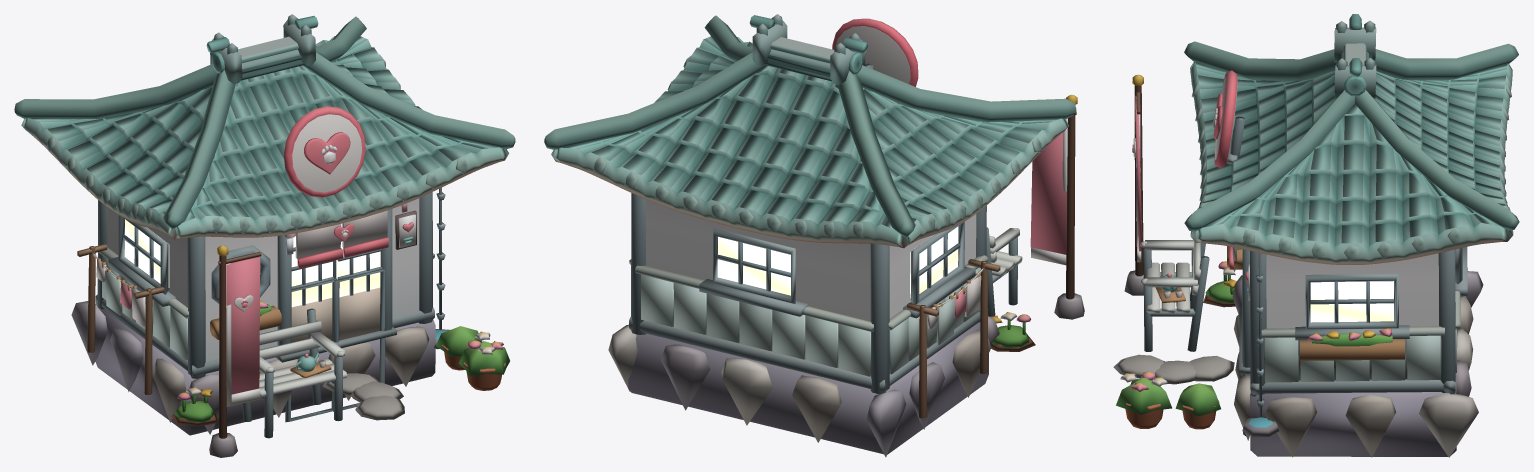
File: clinic.glb
3 views of the same model, side by side, from view 1: azimuth 30°, elevation 25°; view 2: azimuth 150°, elevation 25°; view 3: azimuth 270°, elevation 25° (orthographic). The views are drawn at different scales.
Visible parts, largest first — view 1: clinic, window_glow; view 2: clinic, window_glow; view 3: clinic, window_glow.
Boxes of the visible parts, x1,y1,x2,y2 form: clinic: [14, 14, 515, 457]; window_glow: [124, 219, 380, 307]; clinic: [544, 14, 1084, 457]; window_glow: [717, 226, 958, 298]; clinic: [1113, 14, 1519, 457]; window_glow: [1310, 281, 1393, 322].
Size of the model in its own units: 3.53 by 3.35 by 3.41.
